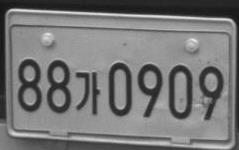0: (167, 64, 193, 120), (107, 62, 132, 116)
8: (16, 58, 42, 112), (45, 59, 71, 113)
9: (198, 65, 224, 120), (137, 63, 163, 117)
가: (74, 71, 100, 114)
